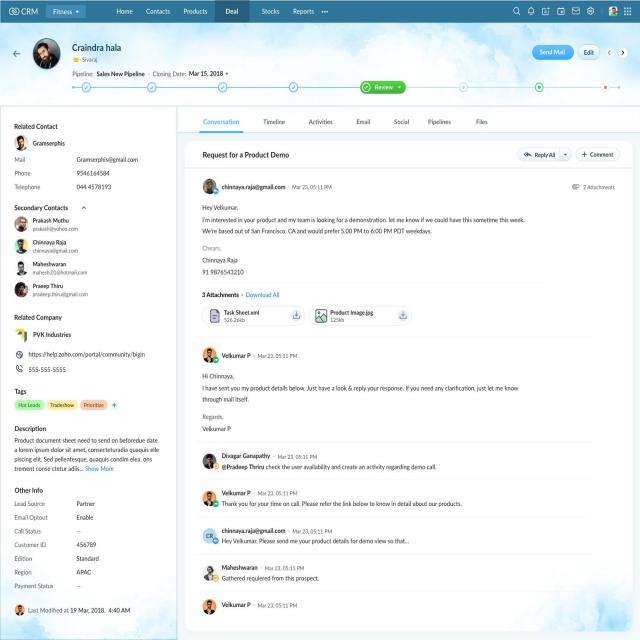button: (202, 305, 306, 326), (309, 306, 413, 325), (532, 44, 575, 60), (578, 44, 600, 61)
